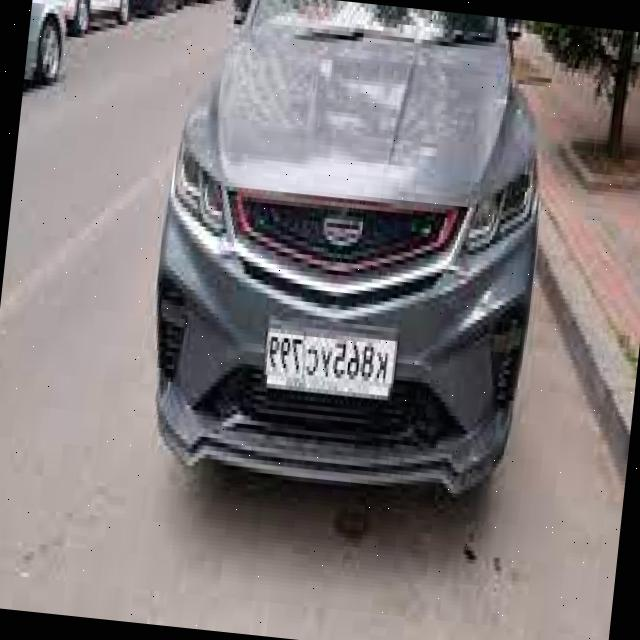number-plates: (259, 314, 402, 408)
